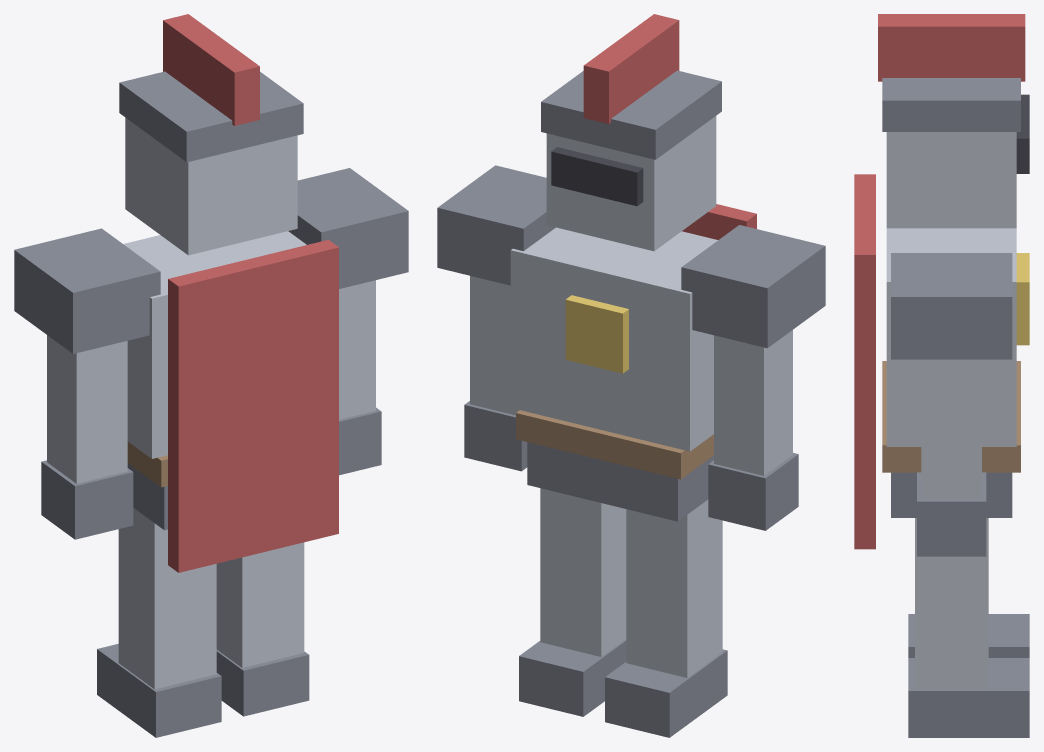
Rendered from player_knight.glb.
3 renders of one model, left to right at view 1: azimuth 30°, elevation 25°; view 2: azimuth 150°, elevation 25°; view 3: azimuth 270°, elevation 25°, orthographic. The views are drawn at different scales.
Visible parts, largest first — view 1: player_knight_18, player_knight_14, player_knight_08, player_knight_02, player_knight_10, player_knight_03, player_knight_16, player_knight_09, player_knight_06, player_knight_17, player_knight_00, player_knight_12 (+5 smaller); view 2: player_knight_06, player_knight_02, player_knight_08, player_knight_03, player_knight_14, player_knight_10, player_knight_09, player_knight_16, player_knight_04, player_knight_00, player_knight_17, player_knight_05 (+7 smaller); view 3: player_knight_09, player_knight_14, player_knight_06, player_knight_03, player_knight_17, player_knight_11, player_knight_18, player_knight_16, player_knight_01, player_knight_13, player_knight_05, player_knight_04 (+3 smaller).
Boxes of the visible parts, x1,y1,x2,y2 form: player_knight_18: [168, 240, 338, 572]; player_knight_14: [125, 117, 297, 255]; player_knight_08: [14, 228, 160, 353]; player_knight_02: [118, 508, 216, 689]; player_knight_10: [47, 335, 127, 483]; player_knight_03: [216, 542, 304, 667]; player_knight_16: [119, 71, 303, 162]; player_knight_09: [288, 168, 408, 288]; player_knight_06: [123, 231, 306, 458]; player_knight_17: [163, 14, 259, 125]; player_knight_00: [97, 643, 221, 737]; player_knight_12: [41, 460, 133, 539]; player_knight_06: [510, 227, 717, 451]; player_knight_02: [626, 499, 722, 677]; player_knight_08: [681, 225, 825, 348]; player_knight_03: [540, 488, 626, 656]; player_knight_14: [546, 116, 716, 251]; player_knight_10: [714, 330, 792, 475]; player_knight_09: [437, 165, 555, 285]; player_knight_16: [541, 70, 721, 159]; player_knight_04: [527, 442, 713, 521]; player_knight_00: [605, 649, 727, 737]; player_knight_17: [583, 14, 679, 123]; player_knight_05: [516, 410, 713, 479]; player_knight_09: [891, 253, 1012, 359]; player_knight_14: [886, 132, 1016, 228]; player_knight_06: [886, 228, 1016, 446]; player_knight_03: [915, 518, 988, 689]; player_knight_17: [878, 14, 1025, 81]; player_knight_11: [921, 359, 981, 499]; player_knight_18: [854, 174, 875, 549]; player_knight_16: [882, 78, 1020, 131]; player_knight_01: [908, 658, 1029, 737]; player_knight_13: [917, 472, 986, 556]; player_knight_05: [882, 361, 1020, 472]; player_knight_04: [891, 472, 1012, 517].
Bounding box in the file's own units: 0.92 × 1.73 × 0.405.
